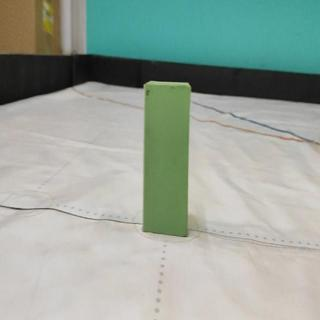greenbox: (143, 82, 191, 238)
